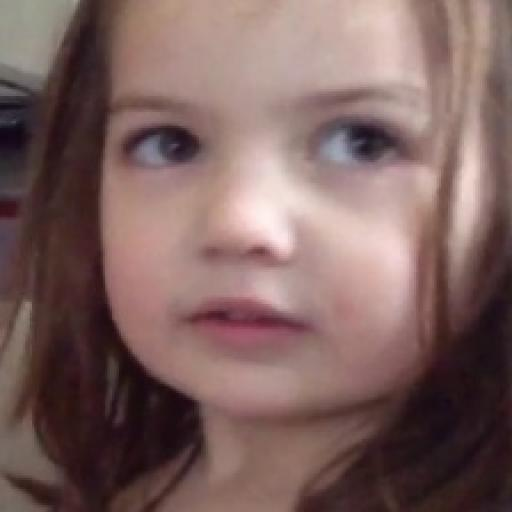Autism: (75, 1, 489, 424)
